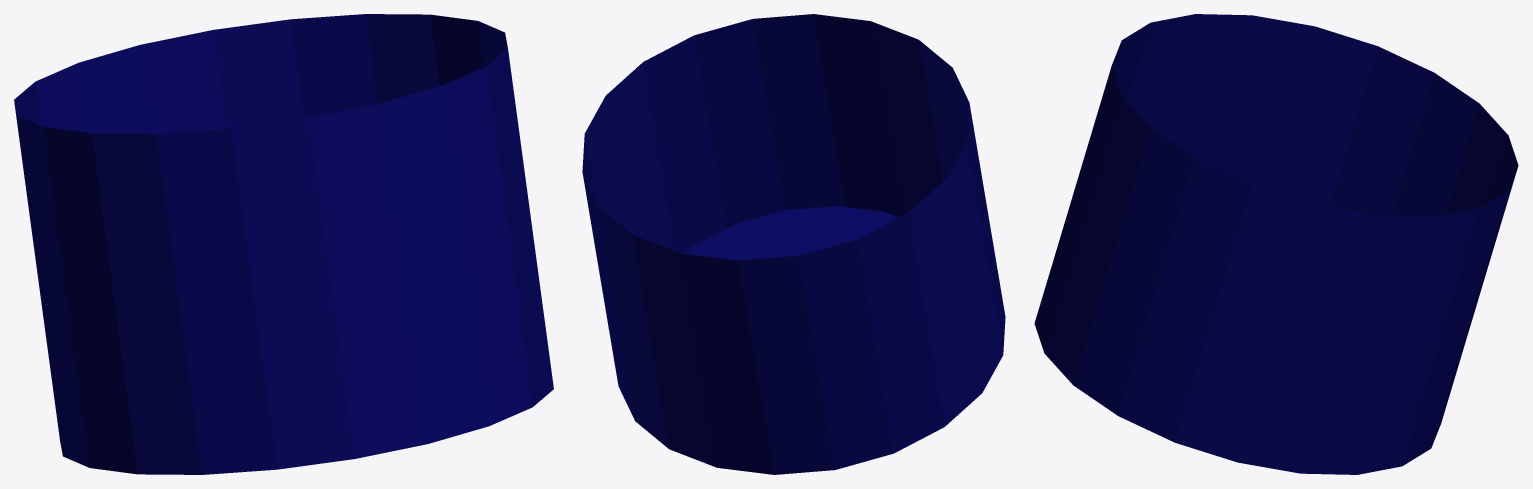
File: original-6.obj
3 renders of one model, left to right at view 1: azimuth 30°, elevation 25°; view 2: azimuth 150°, elevation 25°; view 3: azimuth 270°, elevation 25°, orthographic. The views are drawn at different scales.
Visible parts, largest first — view 1: mesh6/mesh6-geometry#mesh6-geometry; view 2: mesh6/mesh6-geometry#mesh6-geometry; view 3: mesh6/mesh6-geometry#mesh6-geometry.
Part boxes in pixels (x1,y1,x2,y2): mesh6/mesh6-geometry#mesh6-geometry: [14, 14, 553, 474]; mesh6/mesh6-geometry#mesh6-geometry: [582, 14, 1005, 474]; mesh6/mesh6-geometry#mesh6-geometry: [1034, 14, 1518, 474].
Size of the model in its own units: 0.1901 by 0.1783 by 0.2184.
